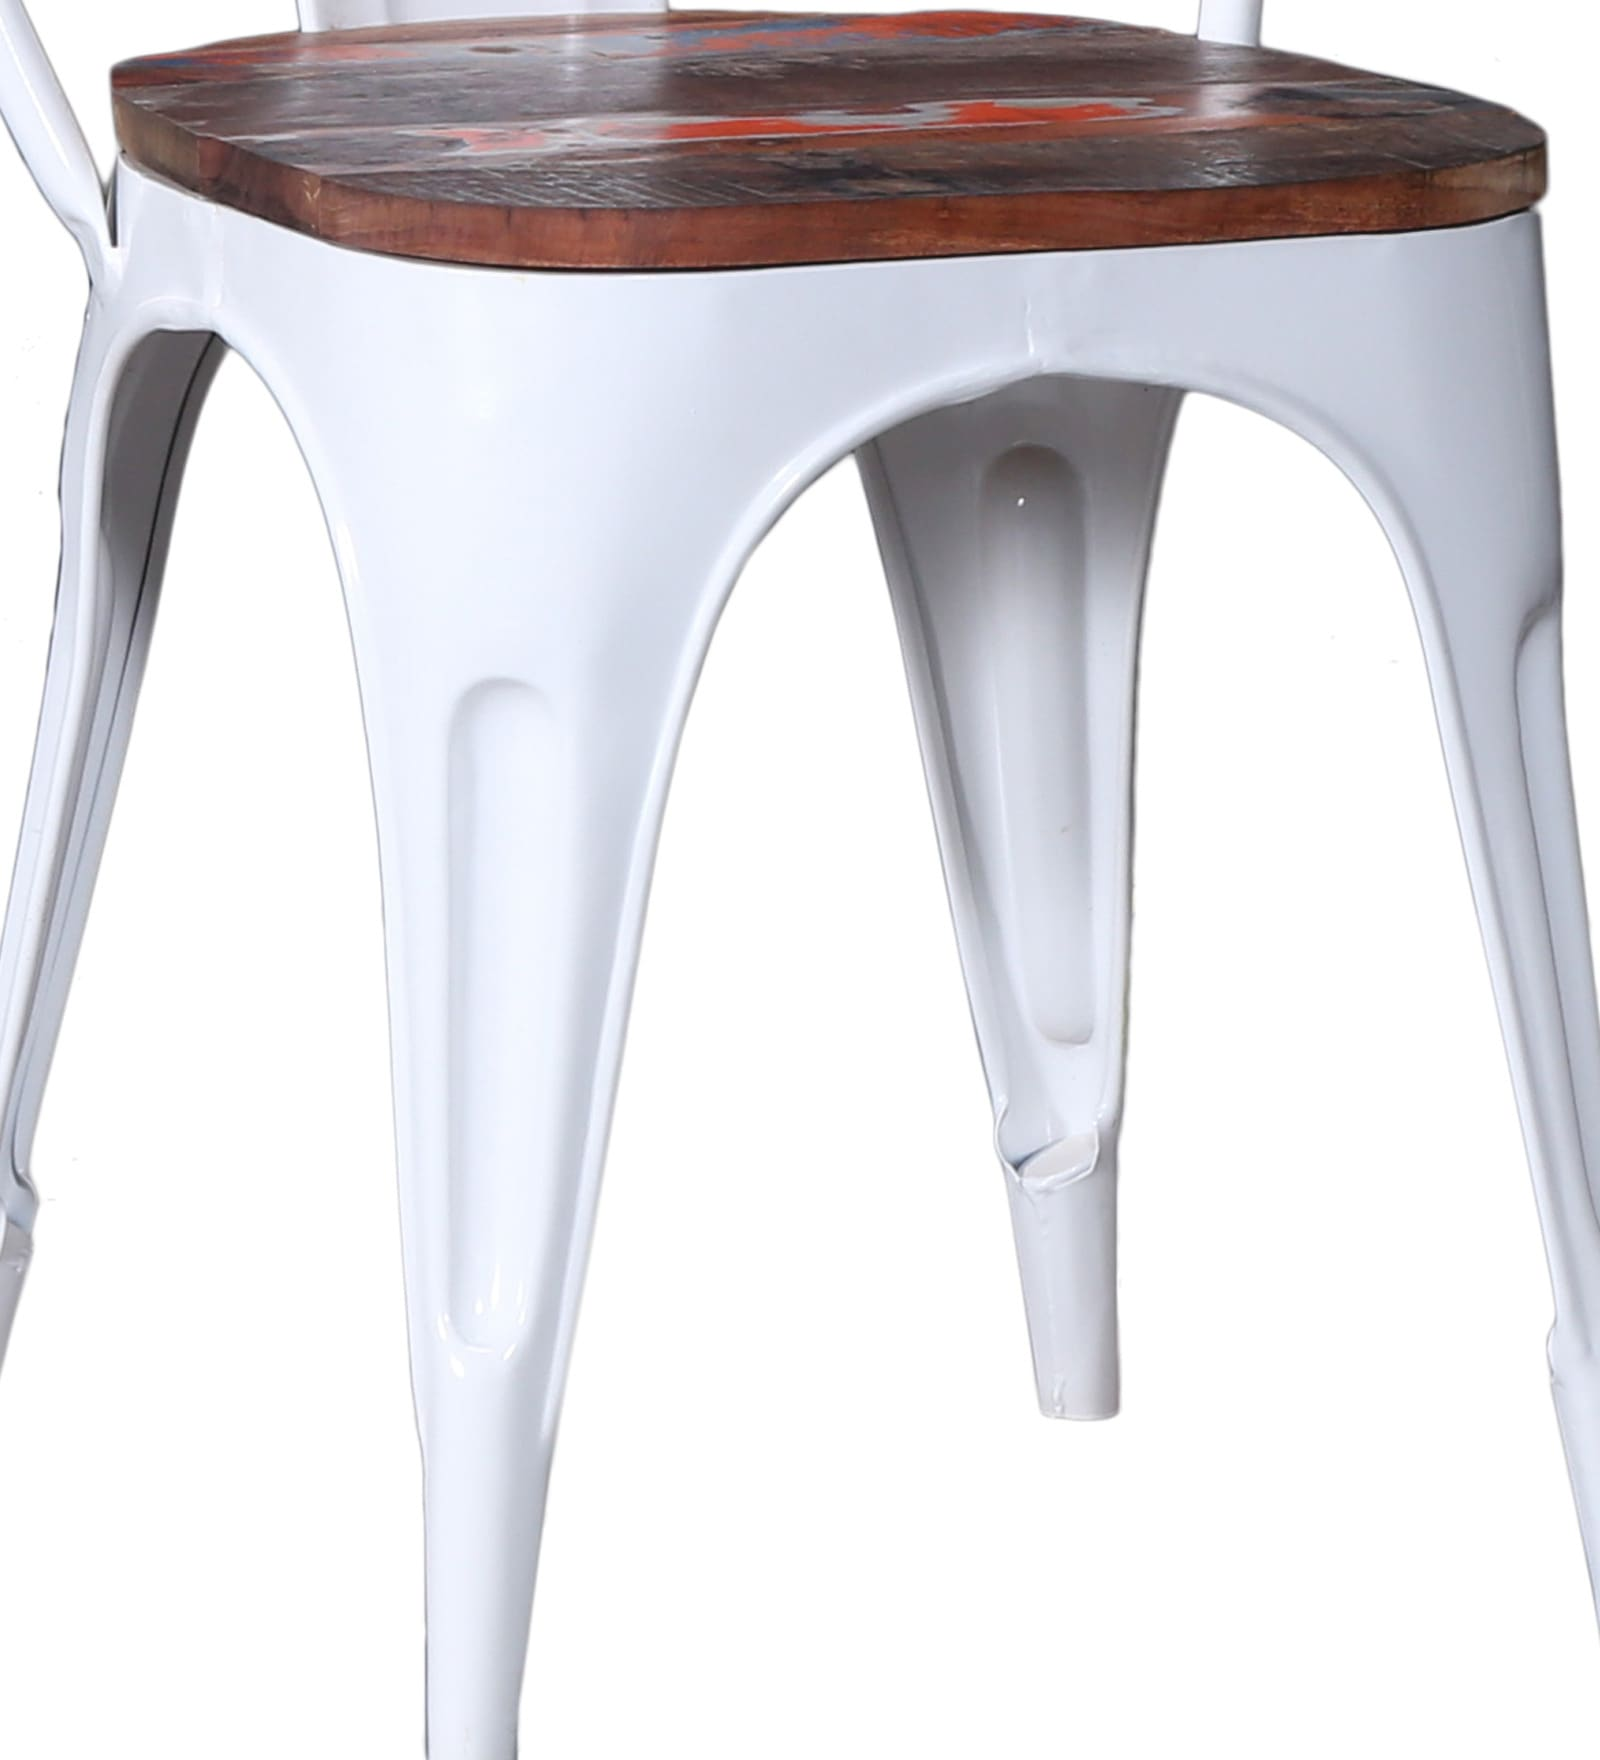Kumtor Metal Chair in Distress White Color with Wooden Seat by Bohemiana: (6, 2, 1600, 1748)
